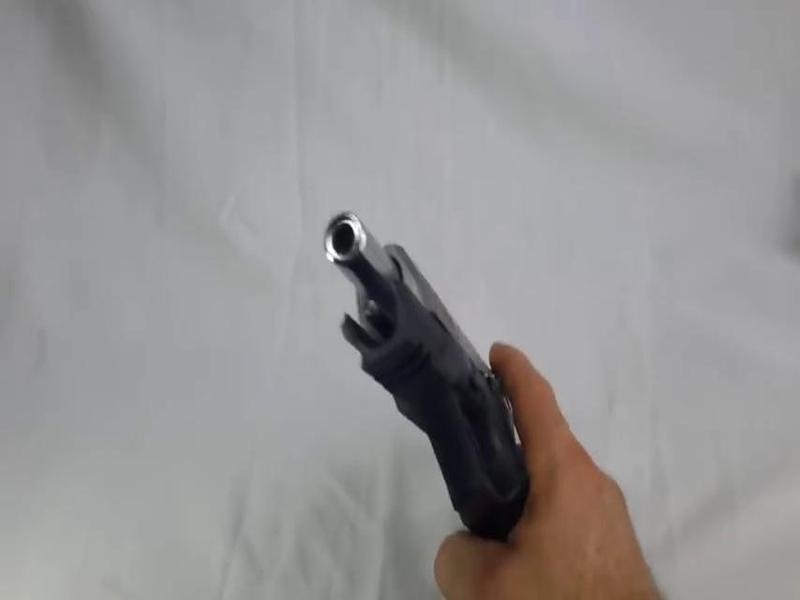Pistola: (303, 205, 587, 557)
